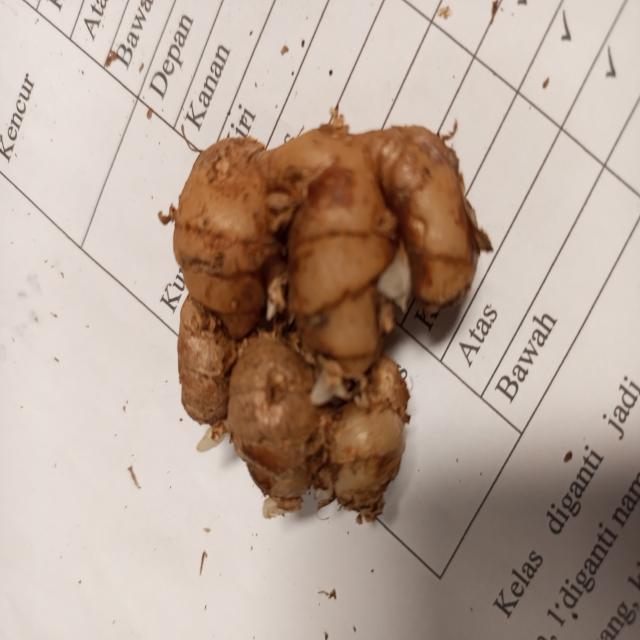ginger: (176, 121, 469, 496)
